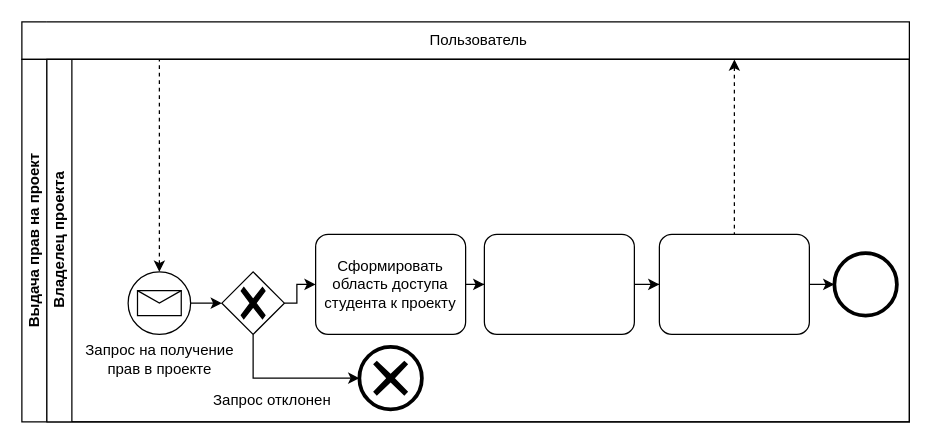
Image size: 931x444. Some labels were removed from this diagram. The shapes that lost their labels are listed below. From the top down, each one's centre as x and y in pixels, then its label:
pixel 558 283: Сформировать список прав студента в доступной части проекта
pixel 733 283: Отправить сообщение об успешной выдаче прав
